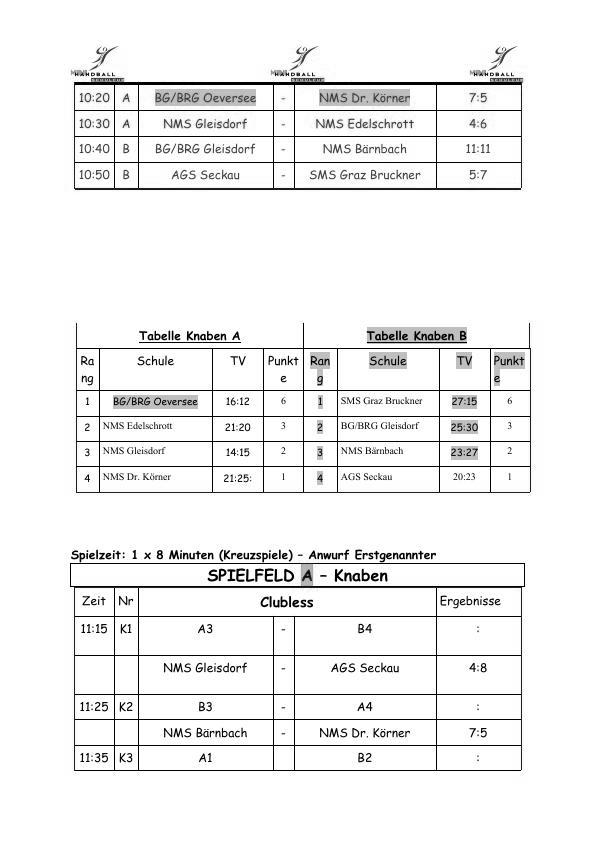table: (68, 562, 527, 775), (72, 318, 534, 496), (70, 80, 525, 192)
text: (71, 547, 437, 562)
